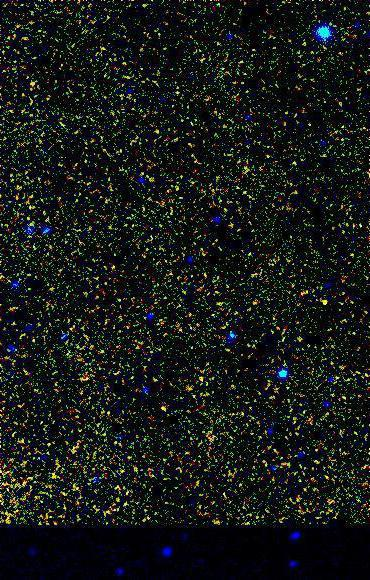star: (311, 285, 341, 315)
